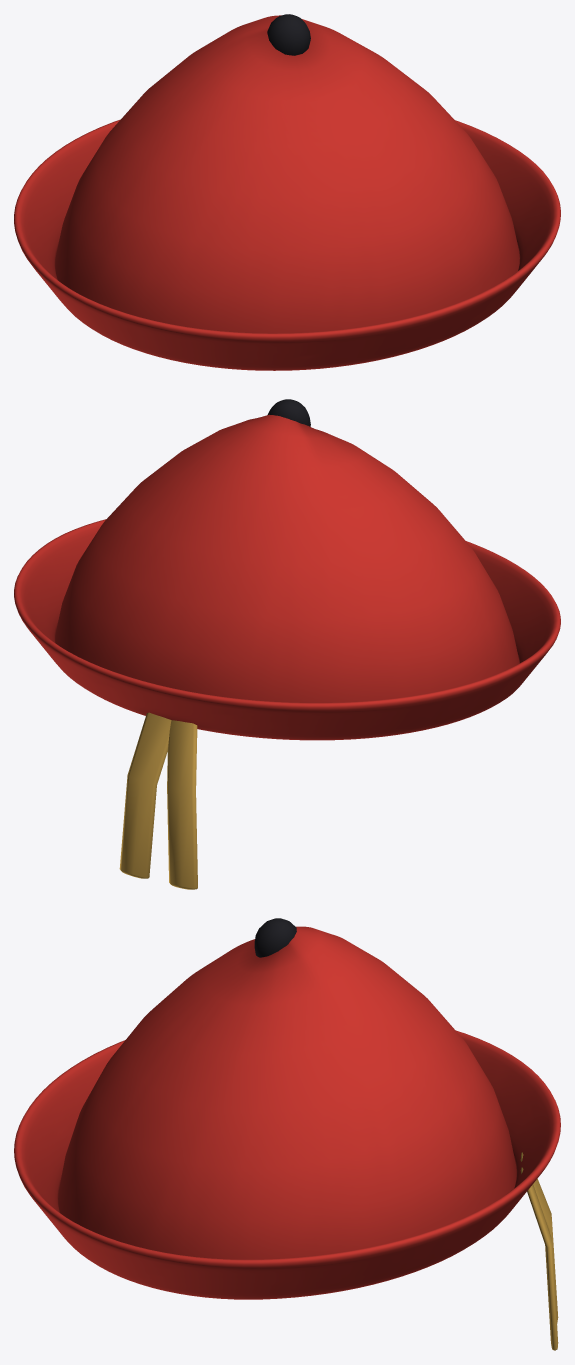
File: hw_janjin.glb
The picture shows the model from 3 angles, top to bottom: view 1: azimuth 30°, elevation 25°; view 2: azimuth 150°, elevation 25°; view 3: azimuth 270°, elevation 25°; orthographic projection. The views are drawn at different scales.
Parts seen in each view (by area): view 1: hw_janjin, hw_janjin_brim, hw_janjin_knot; view 2: hw_janjin, hw_janjin_brim, hw_janjin_rib, hw_janjin_knot; view 3: hw_janjin, hw_janjin_brim, hw_janjin_rib, hw_janjin_knot.
Part boxes in pixels (x1,y1,x2,y2): hw_janjin: (55,15,519,333); hw_janjin_brim: (14,119,560,370); hw_janjin_knot: (267,14,310,55); hw_janjin: (55,414,519,702); hw_janjin_brim: (14,519,560,740); hw_janjin_rib: (119,712,197,889); hw_janjin_knot: (267,399,310,426); hw_janjin: (58,926,516,1259); hw_janjin_brim: (14,1030,560,1299); hw_janjin_rib: (520,1152,558,1350); hw_janjin_knot: (254,918,296,957).
Bounding box in the file's own units: 0.9862 × 0.7539 × 0.9034.
